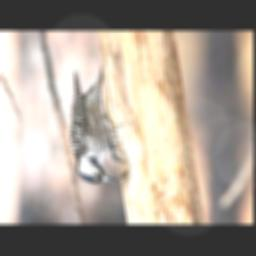Woodpecker: (71, 66, 126, 185)
